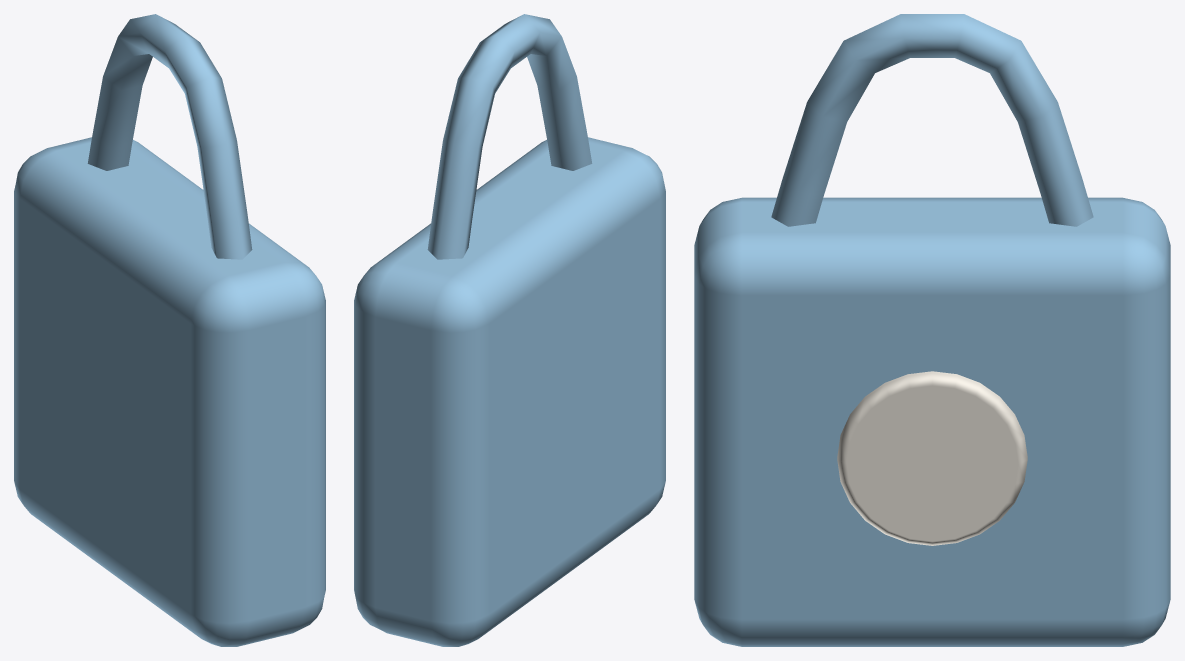
Rendered from fish_print_eco_bag.glb.
3 renders of one model, left to right at view 1: azimuth 30°, elevation 25°; view 2: azimuth 150°, elevation 25°; view 3: azimuth 270°, elevation 25°, orthographic. The views are drawn at different scales.
Visible parts, largest first — view 1: fish_print_eco_bag_ArmR; view 2: fish_print_eco_bag_ArmR; view 3: fish_print_eco_bag_ArmR.
Part boxes in pixels (<box>): fish_print_eco_bag_ArmR: <box>14,14,325,646</box>; fish_print_eco_bag_ArmR: <box>354,14,665,646</box>; fish_print_eco_bag_ArmR: <box>694,14,1170,646</box>.
Bounding box in the file's own units: 0.076 × 0.2842 × 0.2.
